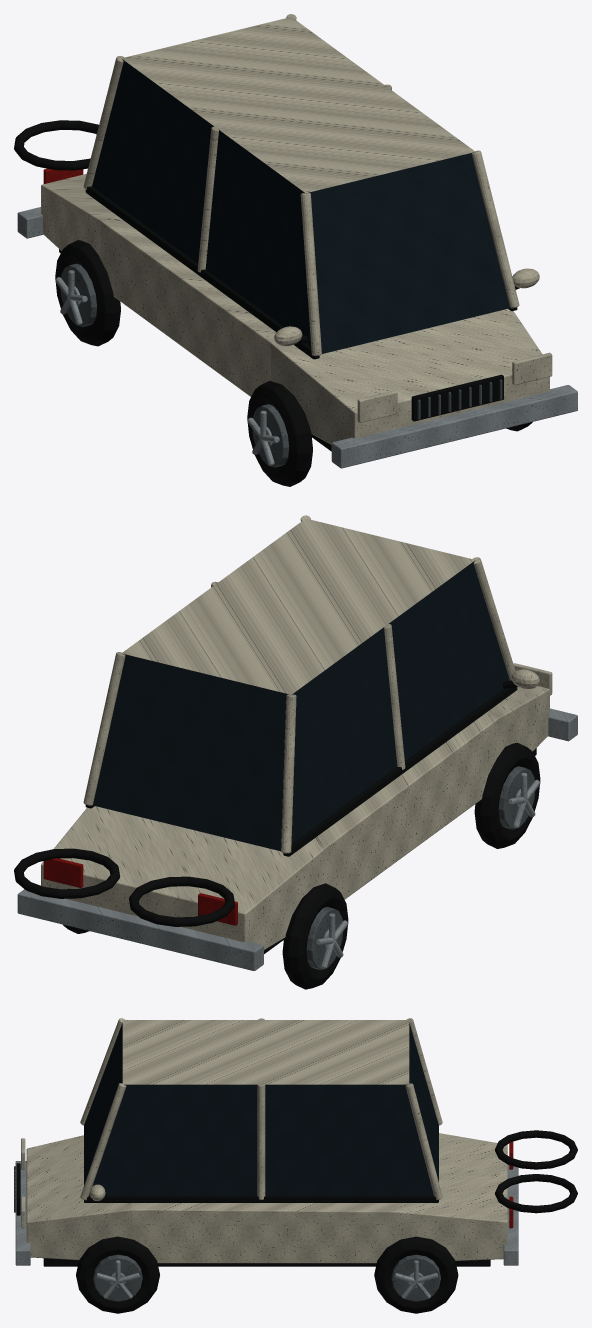
File: PROP-418469EB72DB_lod0.glb
3 views of the same model, one above another, from view 1: azimuth 30°, elevation 25°; view 2: azimuth 150°, elevation 25°; view 3: azimuth 270°, elevation 25° (orthographic). The views are drawn at different scales.
Parts seen in each view (by area): view 1: sloped_cabin_glazing.007, shaped_body_panels.009, roof_panel.007, bumper.009, tire.009, window_pillars.007, rim.009, window_belt.007, radiator_grille.009, lamp_lenses.018, rear_bicycle_wheels, rim_spokes.009 (+2 smaller); view 2: sloped_cabin_glazing.007, shaped_body_panels.009, roof_panel.007, bumper.009, tire.009, window_pillars.007, rear_bicycle_wheels, window_belt.007, rim.009, lamp_lenses.019, rim_spokes.009; view 3: sloped_cabin_glazing.007, shaped_body_panels.009, roof_panel.007, tire.009, window_pillars.007, rear_bicycle_wheels, rim.009, window_belt.007, bumper.009, chassis.009, rim_spokes.009.
Part boxes in pixels (x1,y1,x2,y2): sloped_cabin_glazing.007: [92, 59, 509, 353]; shaped_body_panels.009: [41, 174, 549, 444]; roof_panel.007: [122, 17, 475, 193]; bumper.009: [17, 207, 577, 468]; tire.009: [55, 240, 532, 486]; window_pillars.007: [83, 14, 519, 355]; rim.009: [60, 263, 289, 467]; window_belt.007: [85, 186, 517, 359]; radiator_grille.009: [411, 374, 503, 421]; lamp_lenses.018: [357, 352, 552, 422]; rear_bicycle_wheels: [14, 120, 98, 170]; rim_spokes.009: [55, 270, 279, 465]; sloped_cabin_glazing.007: [93, 560, 509, 851]; shaped_body_panels.009: [41, 686, 549, 949]; roof_panel.007: [121, 518, 475, 694]; bumper.009: [17, 708, 577, 970]; tire.009: [63, 742, 540, 989]; window_pillars.007: [83, 515, 515, 853]; rear_bicycle_wheels: [14, 848, 234, 926]; window_belt.007: [85, 687, 517, 856]; rim.009: [306, 766, 535, 970]; lamp_lenses.019: [43, 858, 237, 925]; rim_spokes.009: [316, 772, 540, 968]; sloped_cabin_glazing.007: [84, 1023, 438, 1195]; shaped_body_panels.009: [26, 1133, 507, 1263]; roof_panel.007: [122, 1020, 409, 1084]; tire.009: [76, 1236, 458, 1313]; window_pillars.007: [80, 1018, 442, 1200]; rear_bicycle_wheels: [495, 1130, 577, 1213]; rim.009: [93, 1254, 440, 1301]; window_belt.007: [84, 1195, 438, 1202]; bumper.009: [15, 1161, 518, 1265]; chassis.009: [43, 1258, 490, 1266]; rim_spokes.009: [96, 1260, 438, 1299].
Bounding box in the file's own units: 2.09 × 2.11 × 4.92.
Materials: 7 (7 with a texture image).
